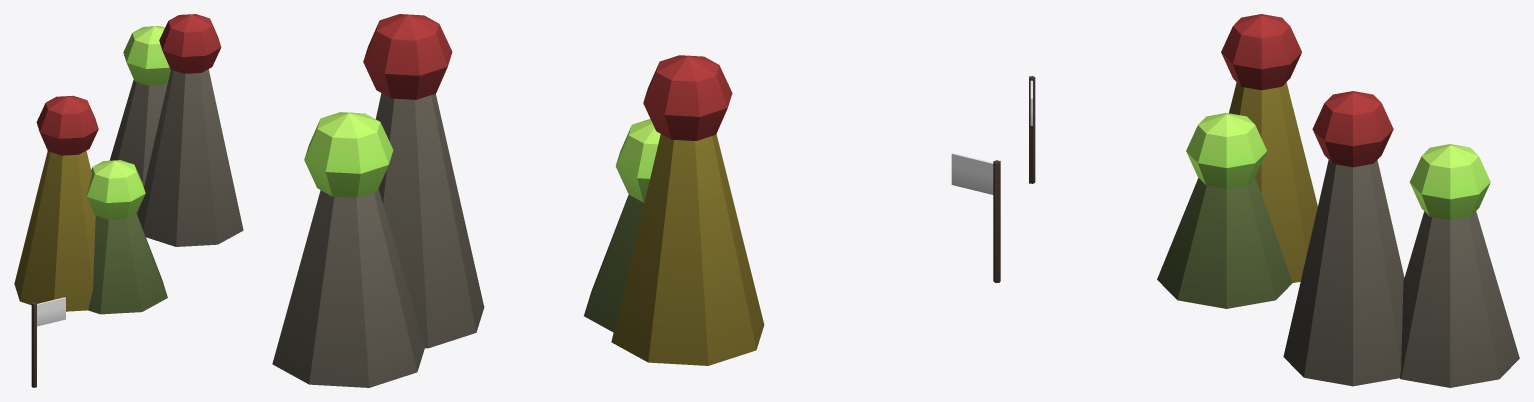
Rendered from MAGIC.glb.
The picture shows the model from 3 angles, left to right: view 1: azimuth 30°, elevation 25°; view 2: azimuth 150°, elevation 25°; view 3: azimuth 270°, elevation 25°; orthographic projection. The views are drawn at different scales.
Visible parts, largest first — view 1: Body, Flag; view 2: Body, Flag; view 3: Body.
Boxes of the visible parts, bbox=[...] form: Body: bbox=[14, 14, 243, 387]; Flag: bbox=[37, 297, 65, 326]; Body: bbox=[272, 14, 1000, 387]; Flag: bbox=[951, 153, 993, 194]; Body: bbox=[1029, 14, 1519, 387].
Size of the model in its own units: 4.22 by 2.52 by 4.23.
1 material, 1 textured.
